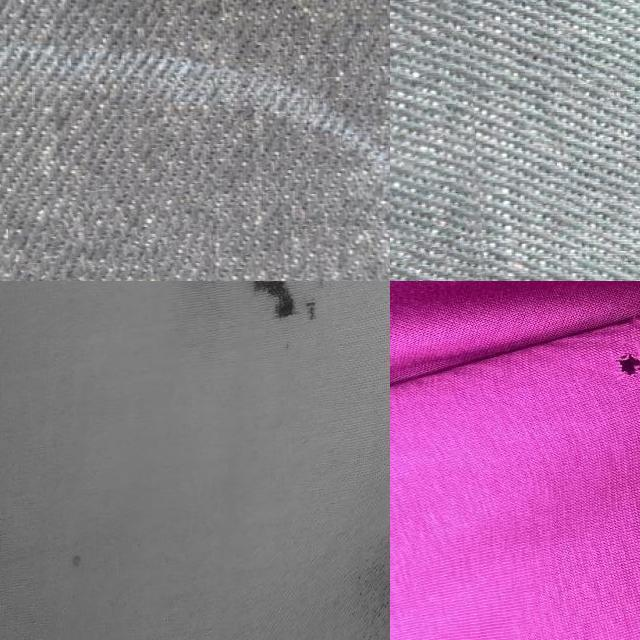Hole: (0, 426, 144, 614), (199, 281, 332, 358)
Thread_other: (390, 32, 491, 281), (10, 185, 221, 281)
seam: (597, 338, 640, 408)
